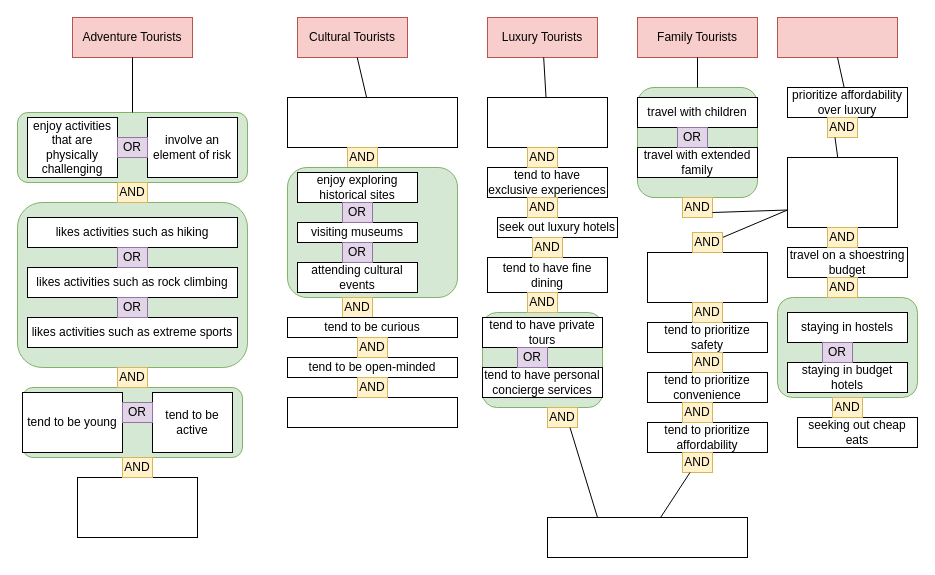
The diagram is 935 pixels wide and 575 high, and some of its shapes have lost their labels. The shapes that lost their labels are listed below. From the top down, each one's centre as x and y in pixels, then its label:
pixel 837 37: Budget Tourists
pixel 372 122: interested in immersing themselves in the local culture of the places
pixel 547 122: are willing to spend a premium for high-end accommodations
pixel 842 192: tend to seek out low-cost accommodations and activities
pixel 707 277: prioritize activities that are suitable for all ages
pixel 372 412: are interested in learning about the traditions
pixel 137 507: prioritize experiences over luxury accommodations
pixel 647 537: prioritize comfort and convenience over adventure
